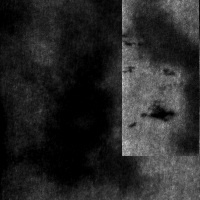patches: (36, 38, 128, 189), (122, 0, 199, 156), (176, 1, 200, 38)
